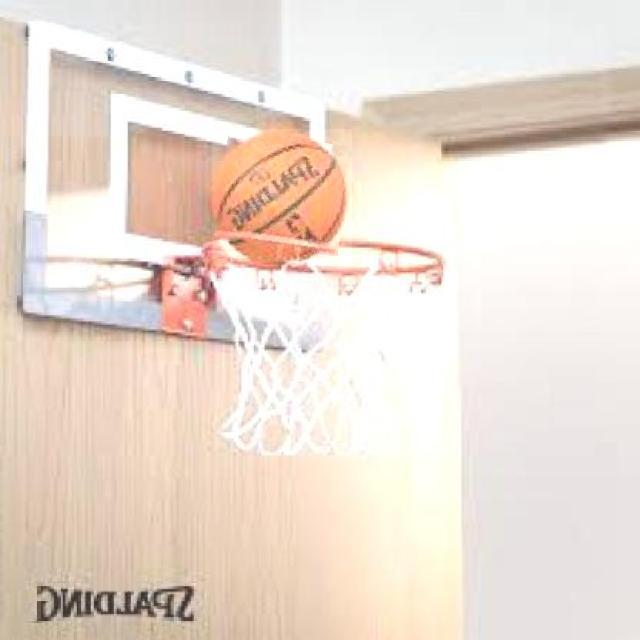Ball: (212, 129, 352, 266)
